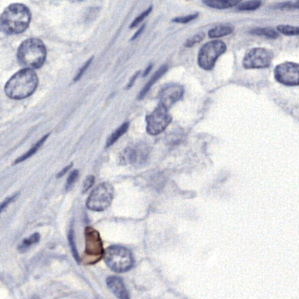Lymphocyte: (81, 226, 105, 260)
